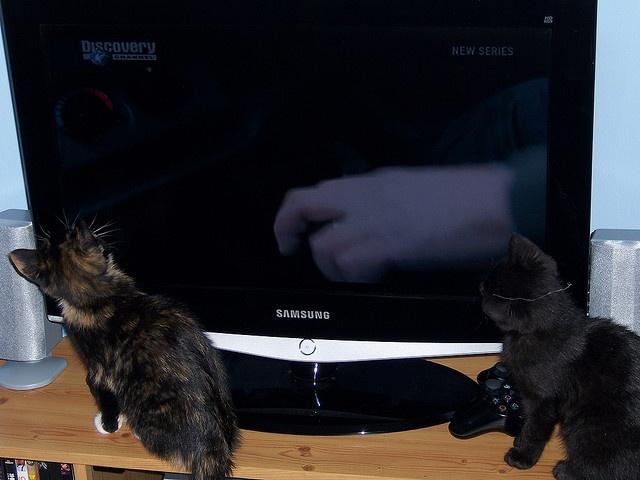AIO PC-Monitor-TV: (1, 0, 599, 368)
